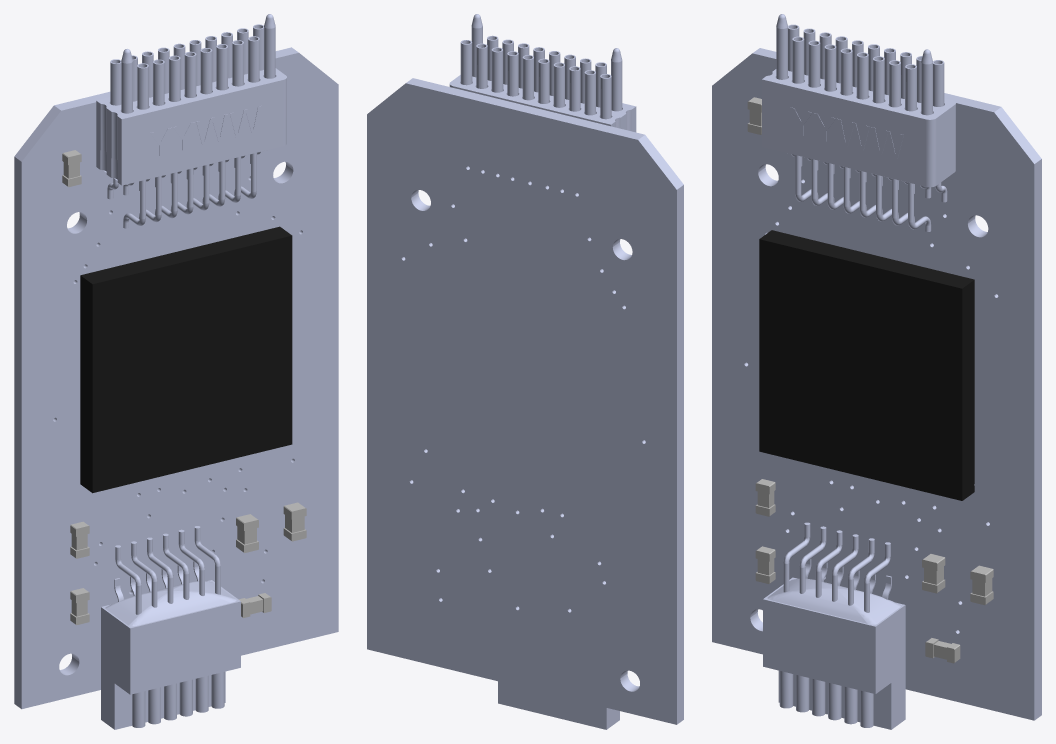
File: RHD_example.glb
3 views of the same model, side by side, from view 1: azimuth 30°, elevation 25°; view 2: azimuth 150°, elevation 25°; view 3: azimuth 330°, elevation 25° (orthographic). The views are drawn at different scales.
Parts seen in each view (by area): view 1: empty_2, empty_11, empty_9, empty_10, empty_3, empty_4, empty_6, empty_7, empty_5, empty_8; view 2: empty_2, empty_9, empty_10; view 3: empty_2, empty_11, empty_9, empty_10, empty_3, empty_4, empty_7, empty_6, empty_8.
Boxes of the visible parts, bbox=[...] form: empty_2: bbox=[14, 47, 338, 709]; empty_11: bbox=[80, 226, 292, 493]; empty_9: bbox=[96, 14, 286, 228]; empty_10: bbox=[101, 526, 240, 729]; empty_3: bbox=[283, 502, 306, 541]; empty_4: bbox=[236, 514, 258, 552]; empty_6: bbox=[70, 588, 89, 625]; empty_7: bbox=[70, 521, 89, 558]; empty_5: bbox=[62, 150, 81, 186]; empty_8: bbox=[239, 593, 271, 617]; empty_2: bbox=[367, 78, 683, 724]; empty_9: bbox=[449, 14, 636, 132]; empty_10: bbox=[498, 681, 619, 729]; empty_2: bbox=[712, 48, 1041, 720]; empty_11: bbox=[759, 230, 974, 500]; empty_9: bbox=[762, 14, 955, 231]; empty_10: bbox=[763, 522, 905, 729]; empty_3: bbox=[970, 565, 993, 605]; empty_4: bbox=[922, 554, 945, 593]; empty_7: bbox=[755, 479, 775, 516]; empty_6: bbox=[755, 546, 775, 583]; empty_8: bbox=[925, 638, 960, 663].
Bounding box in the file's own units: 12.7 × 26.11 × 2.54.
